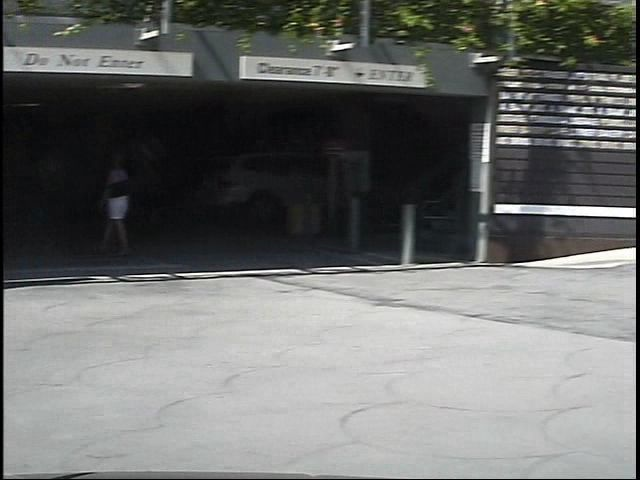person: (78, 148, 127, 270)
